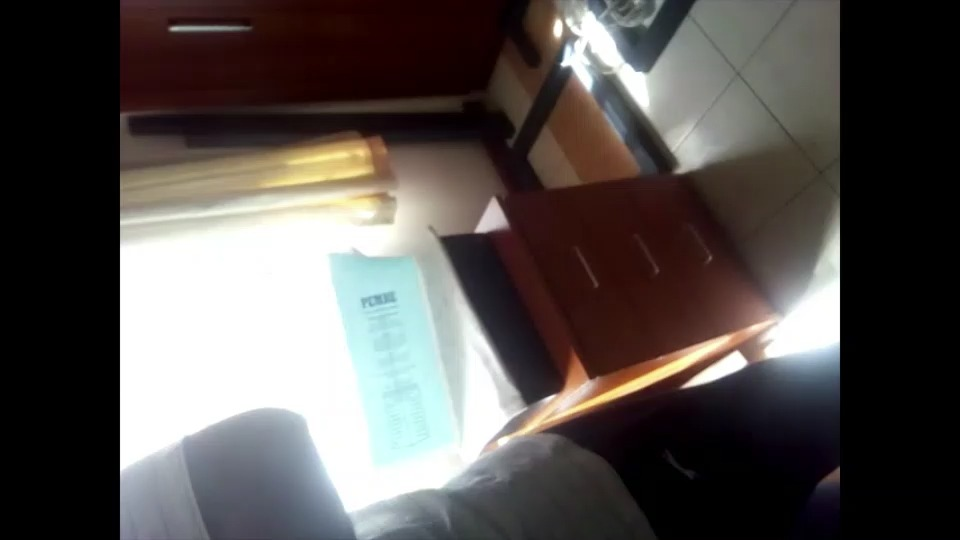wheat_flour_blue_label: (332, 246, 449, 450)
